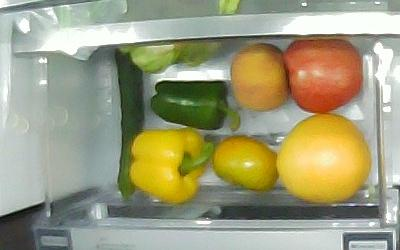apple: (283, 36, 361, 113)
cucumber: (114, 47, 145, 200)
grapefruit: (276, 113, 371, 204)
lettuce: (118, 40, 223, 73)
paprika: (130, 127, 214, 204), (151, 79, 241, 133)
peach: (229, 43, 288, 111)
persimmon: (212, 136, 278, 190)
